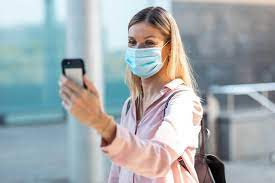with_mask: (125, 21, 169, 77)
